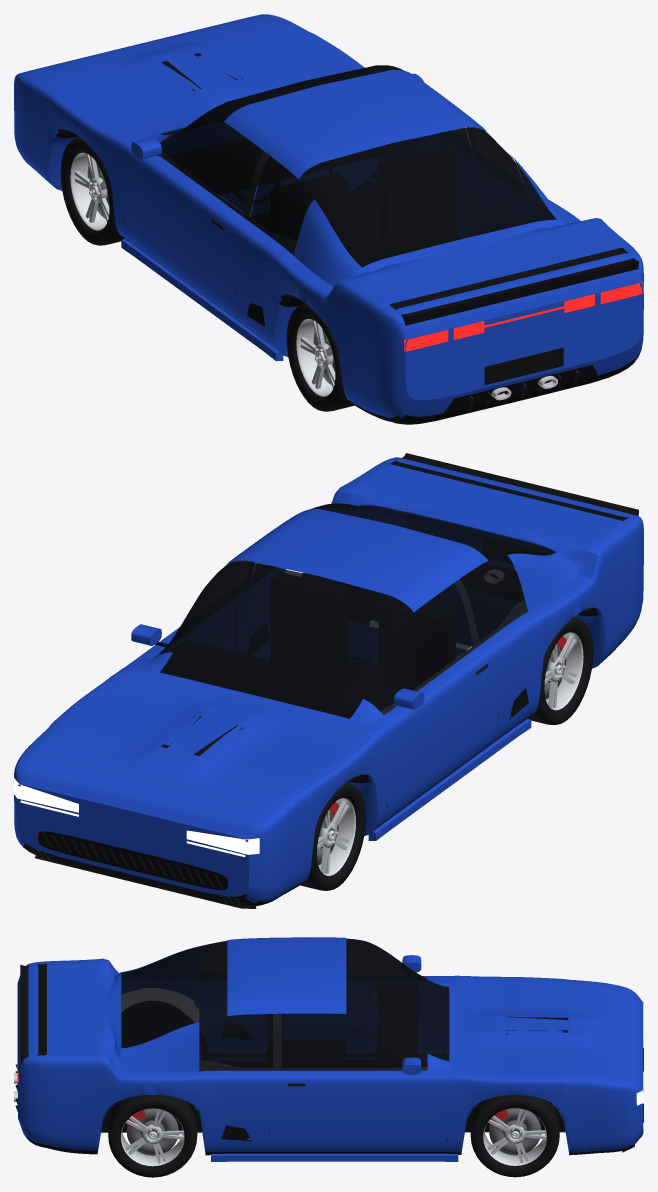
3 views of the same model, one above another, from view 1: azimuth 30°, elevation 25°; view 2: azimuth 150°, elevation 25°; view 3: azimuth 270°, elevation 25° (orthographic). The views are drawn at different scales.
Visible parts, largest first — view 1: body, glass, hood, bumper_front, bumper_rear, spoiler, wheel_RL, wheel_FL, interior_low, lights_rear, skirts; view 2: body, glass, bumper_front, hood, wheel_FL, wheel_RL, bumper_rear, spoiler, interior_low, lights_front, skirts; view 3: body, glass, hood, bumper_front, wheel_RR, wheel_FR, bumper_rear, skirts, spoiler, brake_RR, brake_FR, interior_low.
Boxes of the visible parts, bbox=[...] form: body: bbox=[23, 17, 632, 421]; glass: bbox=[160, 65, 555, 267]; hood: bbox=[40, 20, 350, 140]; bumper_front: bbox=[14, 14, 642, 400]; bumper_rear: bbox=[376, 247, 643, 424]; spoiler: bbox=[390, 247, 638, 325]; wheel_RL: bbox=[286, 303, 354, 411]; wheel_FL: bbox=[60, 137, 124, 245]; interior_low: bbox=[167, 138, 455, 264]; lights_rear: bbox=[404, 281, 643, 351]; skirts: bbox=[121, 180, 376, 361]; body: bbox=[25, 463, 636, 898]; glass: bbox=[159, 503, 555, 718]; bumper_front: bbox=[14, 511, 555, 908]; hood: bbox=[40, 669, 369, 807]; wheel_FL: bbox=[300, 782, 365, 890]; wheel_RL: bbox=[528, 617, 593, 724]; bumper_rear: bbox=[377, 457, 643, 630]; spoiler: bbox=[390, 453, 638, 520]; interior_low: bbox=[161, 574, 455, 717]; lights_front: bbox=[14, 778, 259, 857]; skirts: bbox=[368, 719, 531, 840]; body: bbox=[46, 937, 608, 1155]; glass: bbox=[121, 938, 449, 1067]; hood: bbox=[449, 980, 608, 1077]; bumper_front: bbox=[609, 983, 643, 1152]; wheel_RR: bbox=[108, 1095, 197, 1177]; wheel_FR: bbox=[470, 1095, 559, 1177]; bumper_rear: bbox=[15, 961, 46, 1147]; skirts: bbox=[211, 1057, 458, 1161]; spoiler: bbox=[20, 963, 46, 1061]; brake_RR: bbox=[126, 1108, 178, 1155]; brake_FR: bbox=[489, 1108, 540, 1155]; interior_low: bbox=[268, 984, 416, 1067].
Size of what is drawn, in the model's own units: 1.93 by 1.34 by 4.68.
